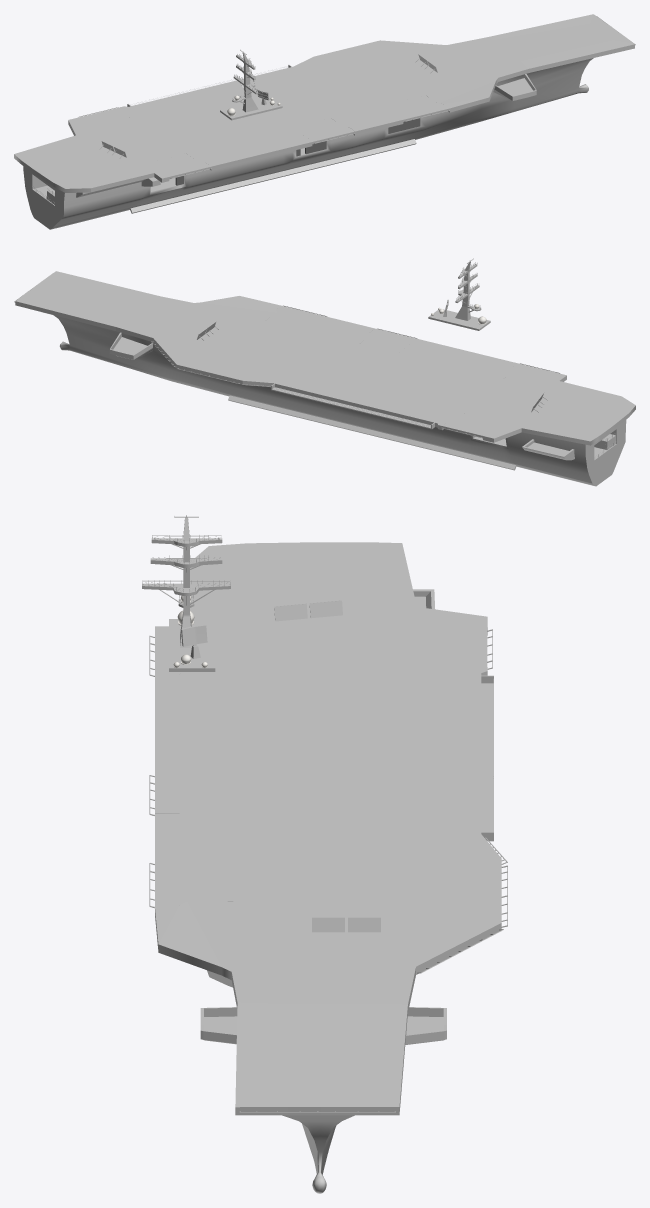
File: Carrier.fbx
3 views of the same model, one above another, from view 1: azimuth 30°, elevation 25°; view 2: azimuth 150°, elevation 25°; view 3: azimuth 270°, elevation 25° (orthographic). The views are drawn at different scales.
Parts seen in each view (by area): view 1: hull, elevators1, radarthings, polySurface170, polySurface171; view 2: hull, elevators1, polySurface4, polySurface170, polySurface171; view 3: hull, elevators1, polySurface170, polySurface4, backburners, polySurface171.
Part boxes in pixels (x1=…): hull: x1=14, y1=14, x2=634, y2=229; elevators1: x1=80, y1=95, x2=449, y2=179; radarthings: x1=175, y1=95, x2=420, y2=185; polySurface170: x1=232, y1=53, x2=258, y2=112; polySurface171: x1=220, y1=98, x2=282, y2=120; hull: x1=15, y1=271, x2=635, y2=486; elevators1: x1=265, y1=305, x2=559, y2=438; polySurface4: x1=271, y1=383, x2=434, y2=429; polySurface170: x1=455, y1=261, x2=481, y2=320; polySurface171: x1=428, y1=309, x2=490, y2=330; hull: x1=155, y1=542, x2=501, y2=1193; elevators1: x1=155, y1=627, x2=487, y2=905; polySurface170: x1=142, y1=517, x2=230, y2=647; polySurface4: x1=481, y1=675, x2=493, y2=841; backburners: x1=274, y1=600, x2=380, y2=932; polySurface171: x1=169, y1=619, x2=215, y2=671.
Size of the model in its own units: 106995 by 27622 by 29270.
